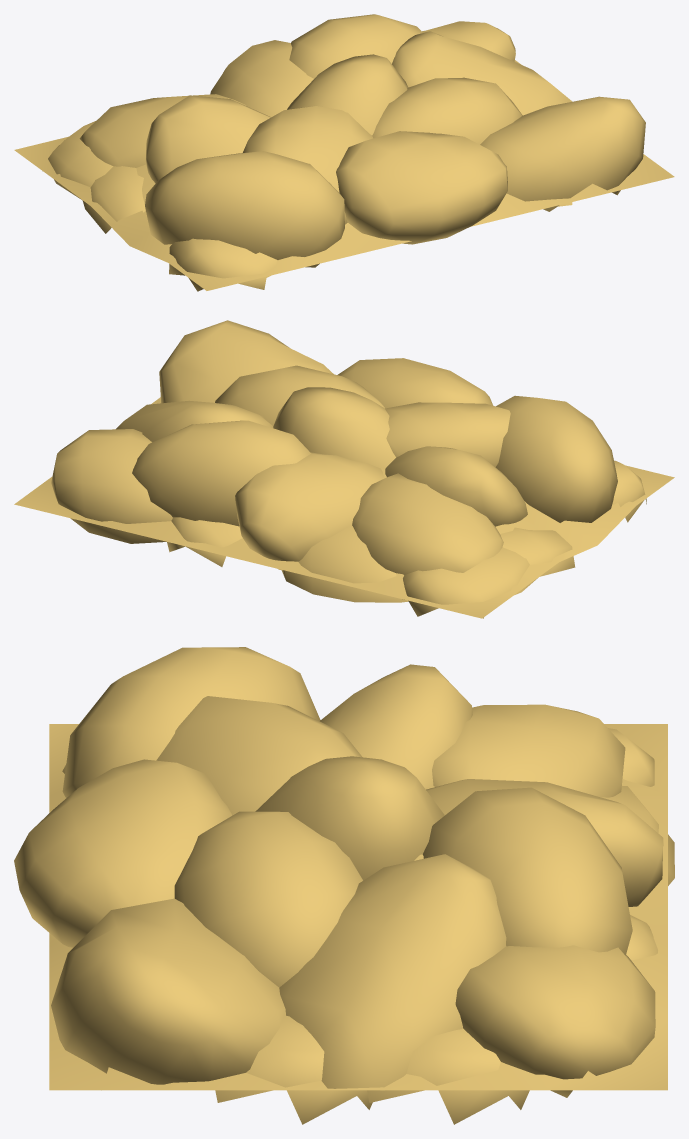
File: mesh_farmtruck_fullcrate02.fbx
3 views of the same model, one above another, from view 1: azimuth 30°, elevation 25°; view 2: azimuth 150°, elevation 25°; view 3: azimuth 270°, elevation 25° (orthographic). The views are drawn at different scales.
Parts seen in each view (by area): view 1: mesh_farmtruck_fullcrate02; view 2: mesh_farmtruck_fullcrate02; view 3: mesh_farmtruck_fullcrate02.
Boxes of the visible parts, bbox=[...] form: mesh_farmtruck_fullcrate02: bbox=[14, 14, 674, 291]; mesh_farmtruck_fullcrate02: bbox=[14, 320, 674, 618]; mesh_farmtruck_fullcrate02: bbox=[14, 647, 674, 1124].
Size of the model in its own units: 0.9146 by 0.2213 by 0.6949.
